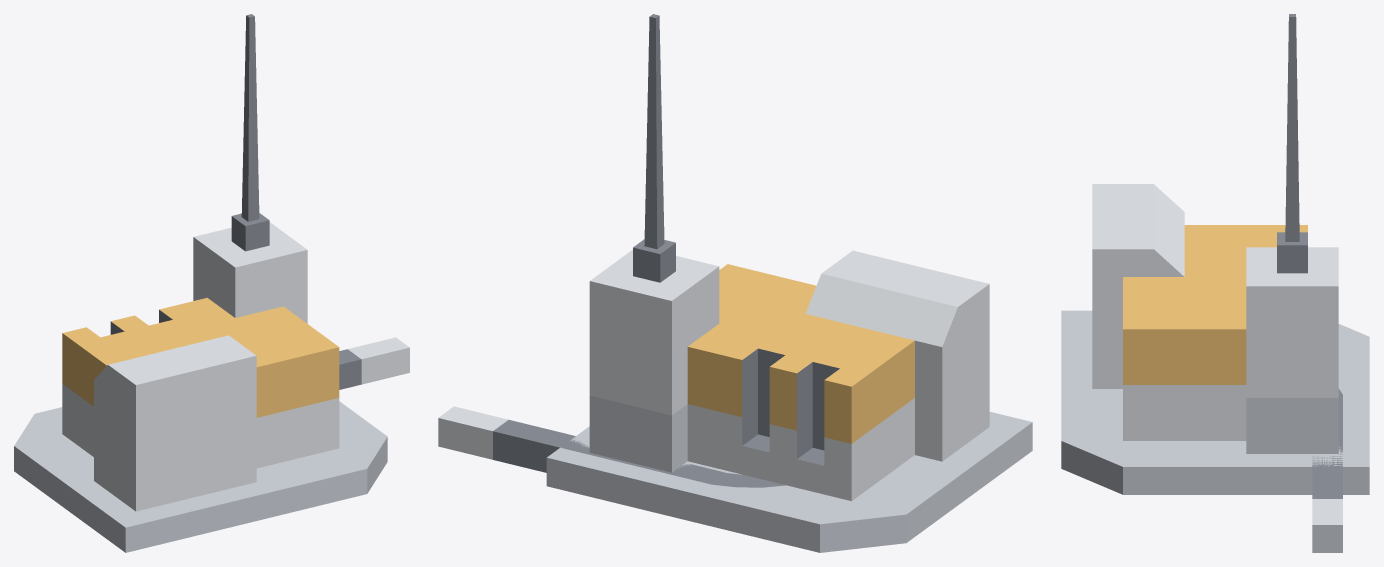
Rendered from machine_wirelessCable.glb.
The picture shows the model from 3 angles, left to right: view 1: azimuth 30°, elevation 25°; view 2: azimuth 150°, elevation 25°; view 3: azimuth 270°, elevation 25°; orthographic projection. The views are drawn at different scales.
Parts seen in each view (by area): view 1: machine_wirelessCable, machine_wirelessCable.002; view 2: machine_wirelessCable, machine_wirelessCable.002; view 3: machine_wirelessCable, machine_wirelessCable.002.
Part boxes in pixels (<box>): machine_wirelessCable: <box>14,14,387,552</box>; machine_wirelessCable.002: <box>339,337,409,389</box>; machine_wirelessCable: <box>546,14,1032,552</box>; machine_wirelessCable.002: <box>438,406,785,487</box>; machine_wirelessCable: <box>1061,14,1369,494</box>; machine_wirelessCable.002: <box>1312,388,1342,552</box>.
Size of the model in its own units: 2.47 by 2.4 by 1.5.
